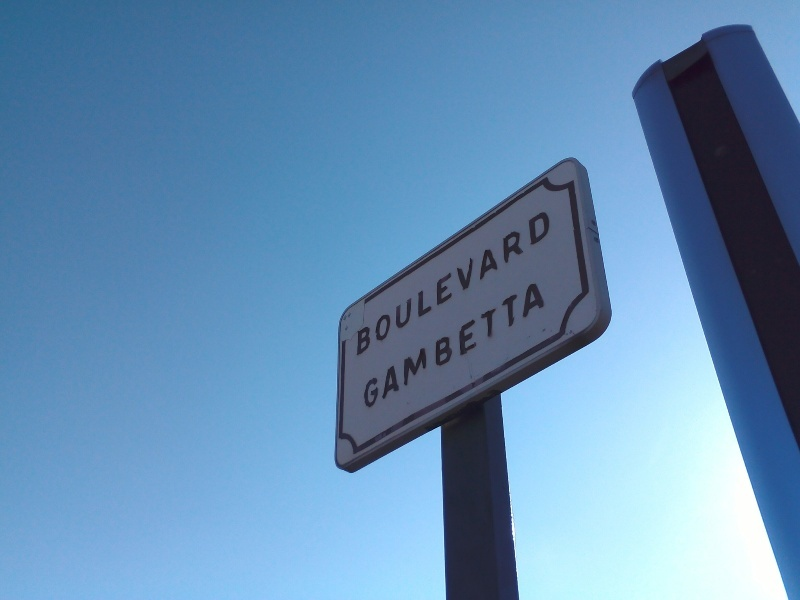text: (369, 205, 384, 359), (385, 205, 400, 359), (401, 205, 416, 359), (417, 205, 432, 359), (433, 205, 448, 359), (449, 205, 464, 359), (465, 205, 480, 359), (481, 205, 496, 359), (497, 205, 512, 359), (513, 205, 528, 359), (529, 205, 544, 359), (354, 205, 368, 359), (369, 279, 384, 414), (385, 279, 400, 414), (401, 279, 416, 414), (417, 279, 432, 414), (433, 279, 448, 414), (449, 279, 464, 414), (465, 279, 480, 414), (481, 279, 496, 414), (497, 279, 512, 414), (513, 279, 528, 414), (529, 279, 544, 414), (545, 205, 556, 359), (365, 279, 368, 414), (545, 279, 548, 414)
